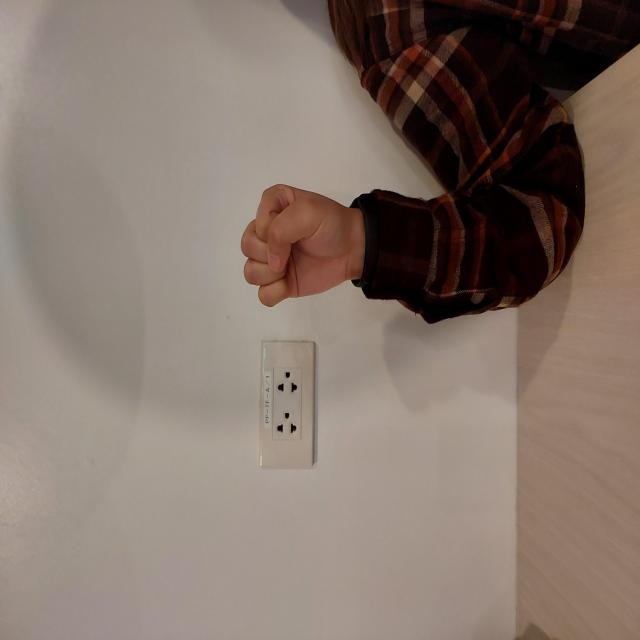S: (330, 237, 460, 357)
